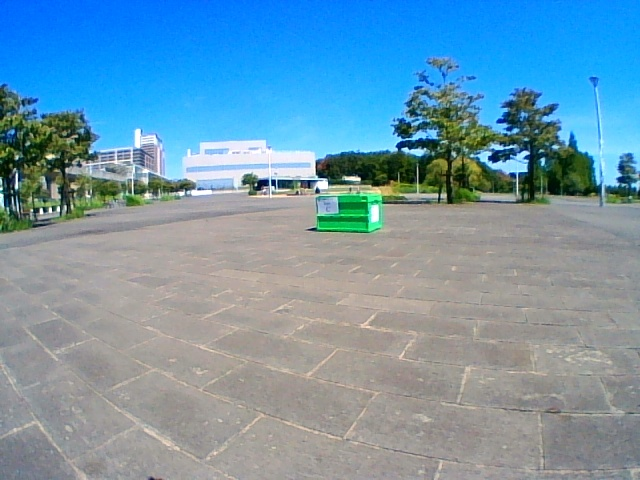green_box: (316, 193, 382, 233)
tag: (317, 198, 337, 214)
